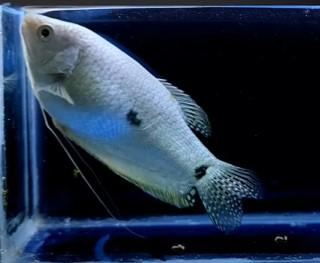Gourami: (20, 9, 261, 235)
